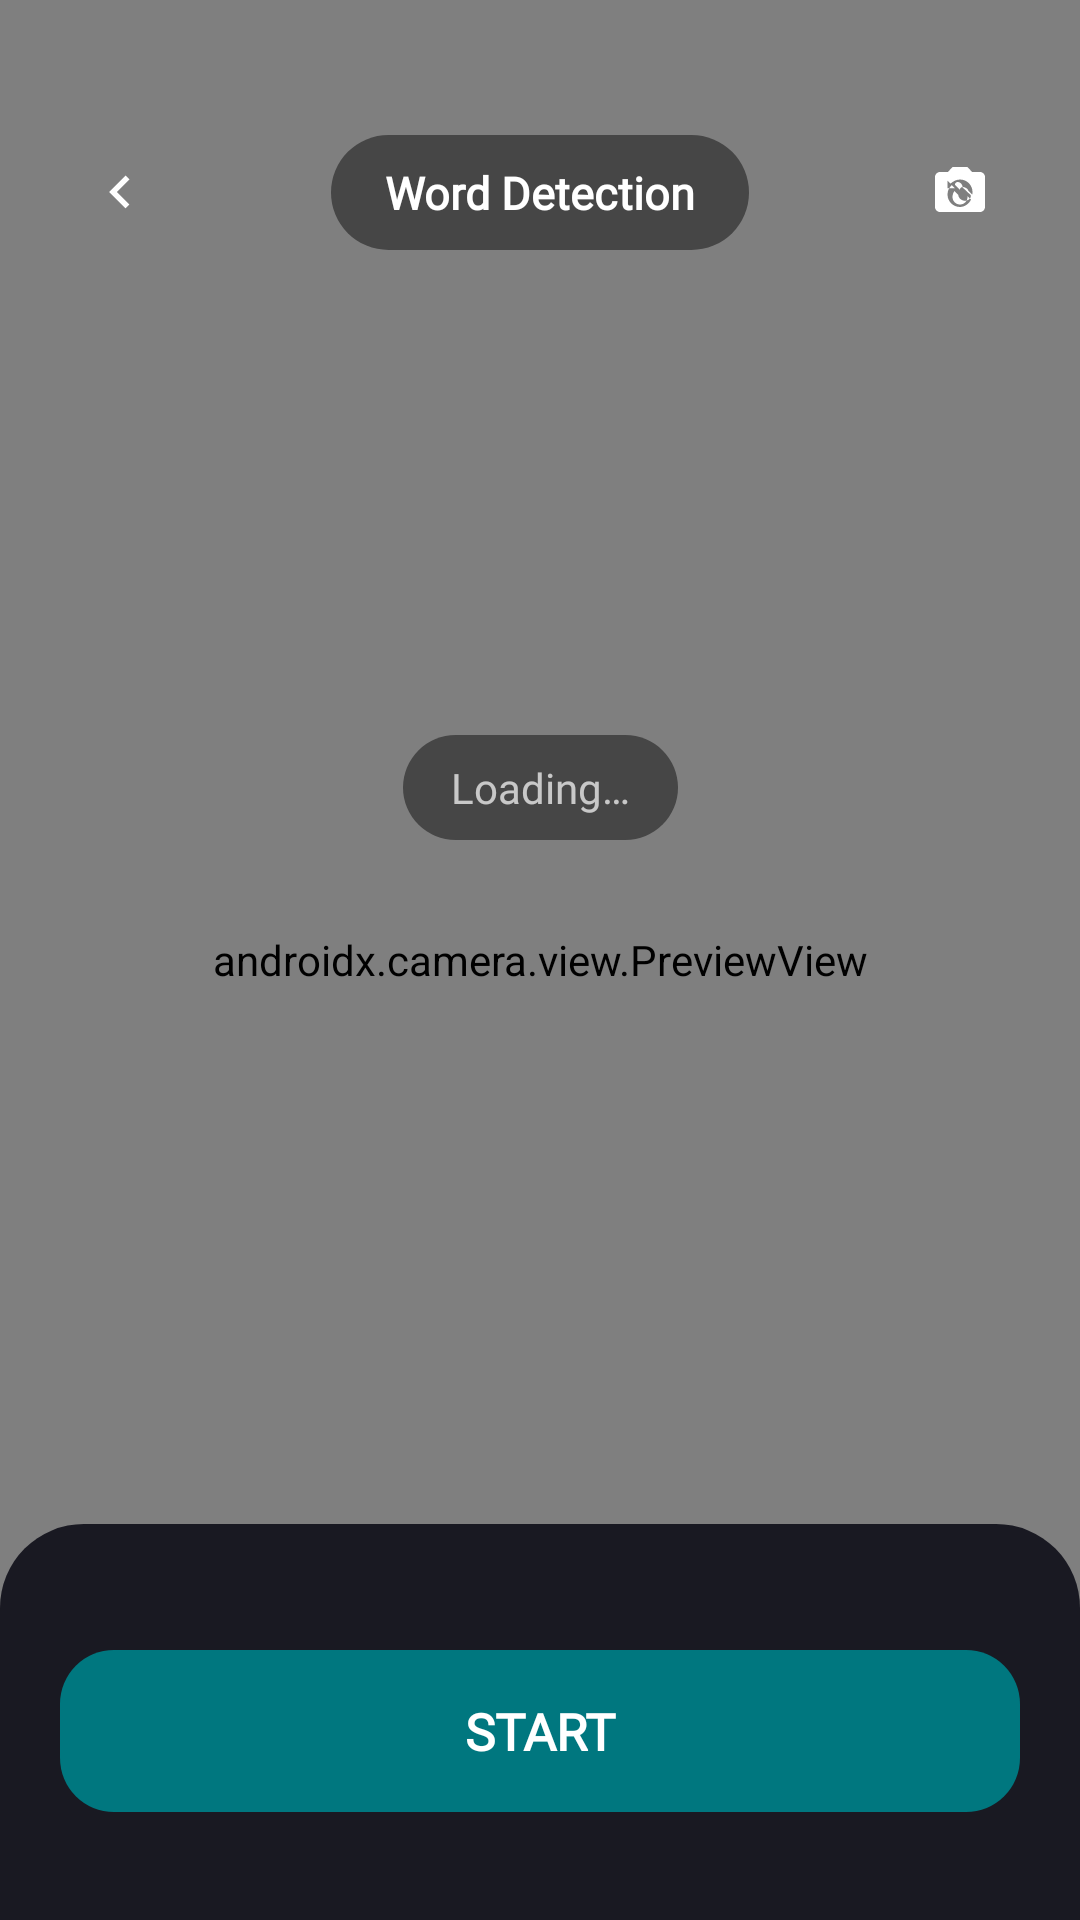

Icons on this 1080×1920 Android screen, each with the point to tap as (x,y):
chevron left: (119,191)
flip camera: (960,189)
